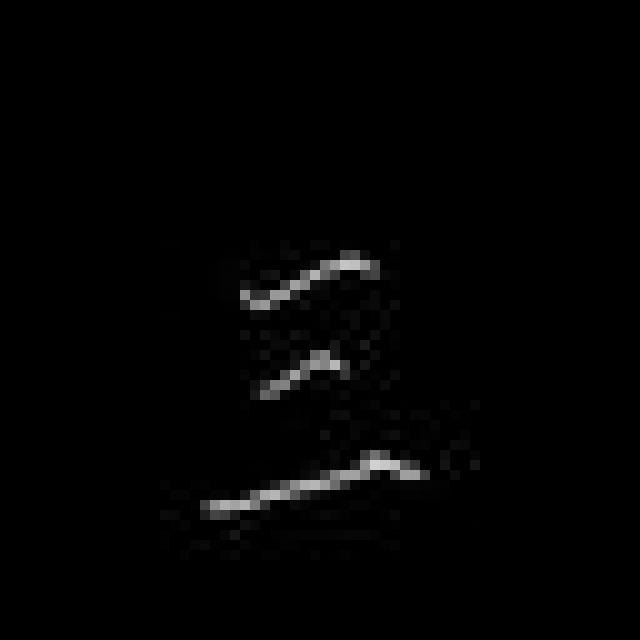3 -three-: (180, 243, 434, 523)
